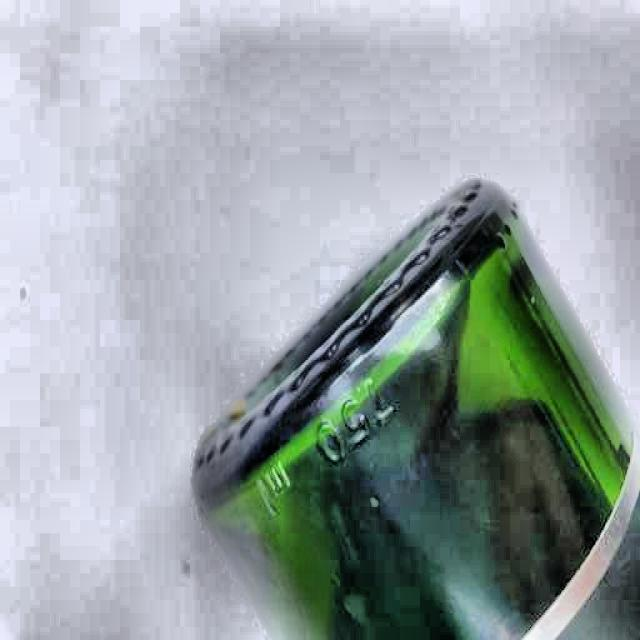glass: (196, 174, 640, 640)
